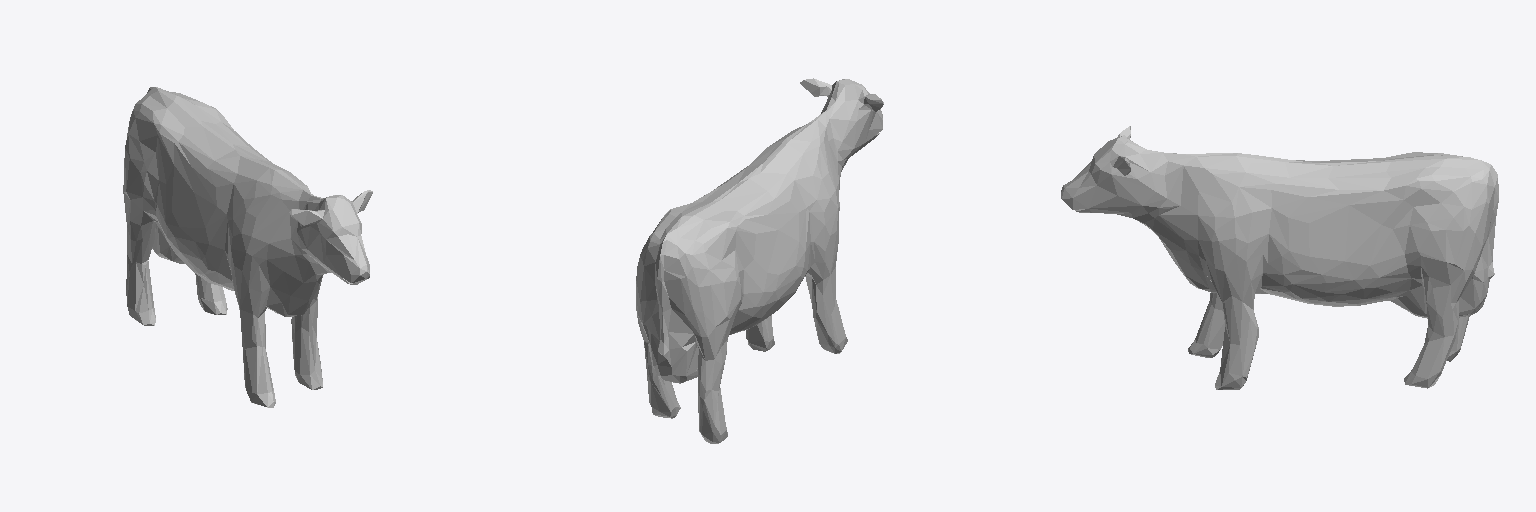
File: step9.obj
3 renders of one model, left to right at view 1: azimuth 30°, elevation 25°; view 2: azimuth 150°, elevation 25°; view 3: azimuth 270°, elevation 25°, orthographic.
Visible parts, largest first — view 1: Cow:cow; view 2: Cow:cow; view 3: Cow:cow.
Boxes of the visible parts, box(x1,y1,x2,y2) form: Cow:cow: box(123, 87, 372, 407); Cow:cow: box(636, 78, 883, 443); Cow:cow: box(1061, 126, 1498, 389).
Bounding box in the file's own units: 4.58 × 11.63 × 19.61.